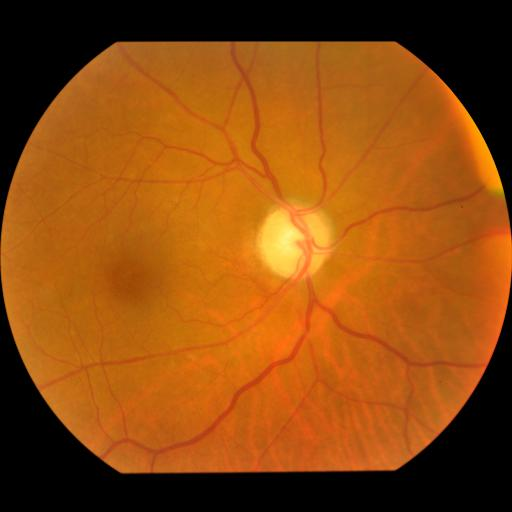Optic Cup: (277, 223, 309, 255)
Optic Disc: (258, 204, 333, 281)
